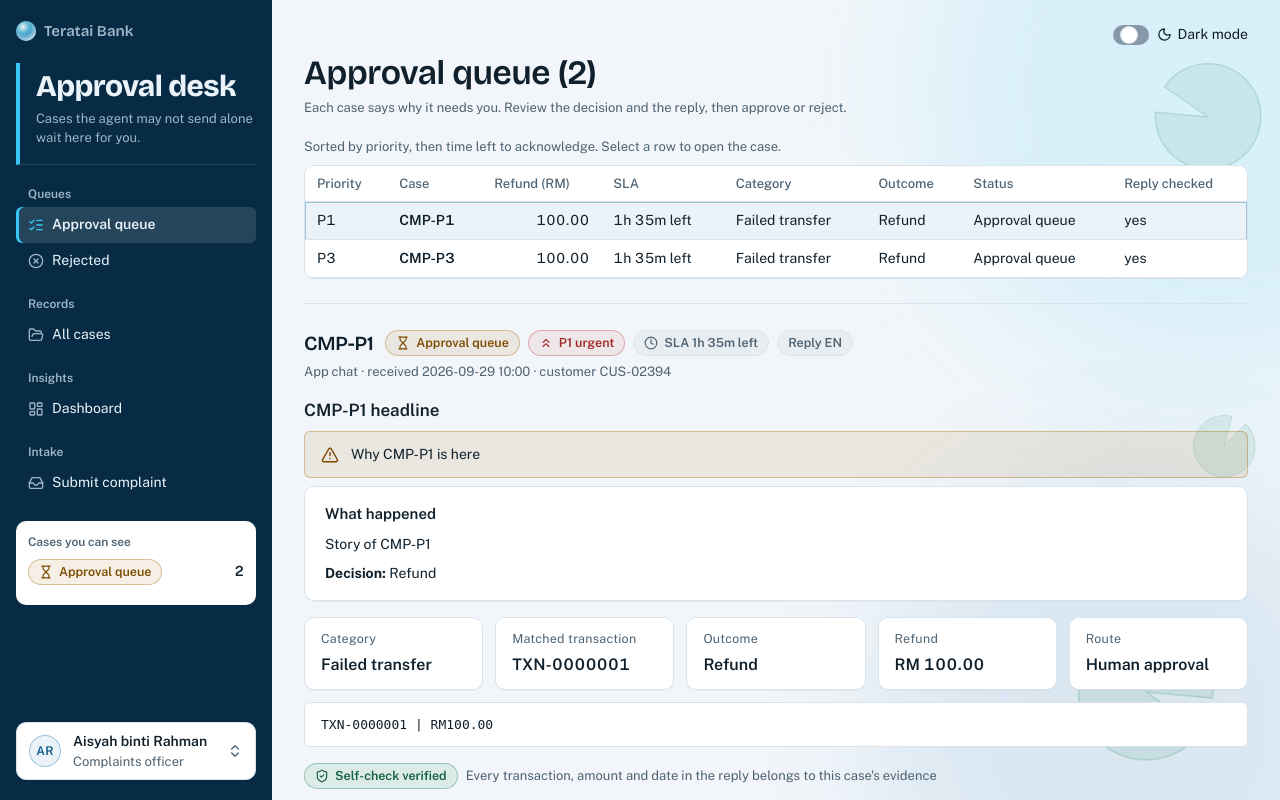
Test: theme › opens light, switches to dark, and keeps dark after logging out
Expected: the heading "Approval queue (2)" is shown, [304,52,596,93]
Click the switch named "Dark mode".
click(1130, 34)  # box [1112,24,1148,44]
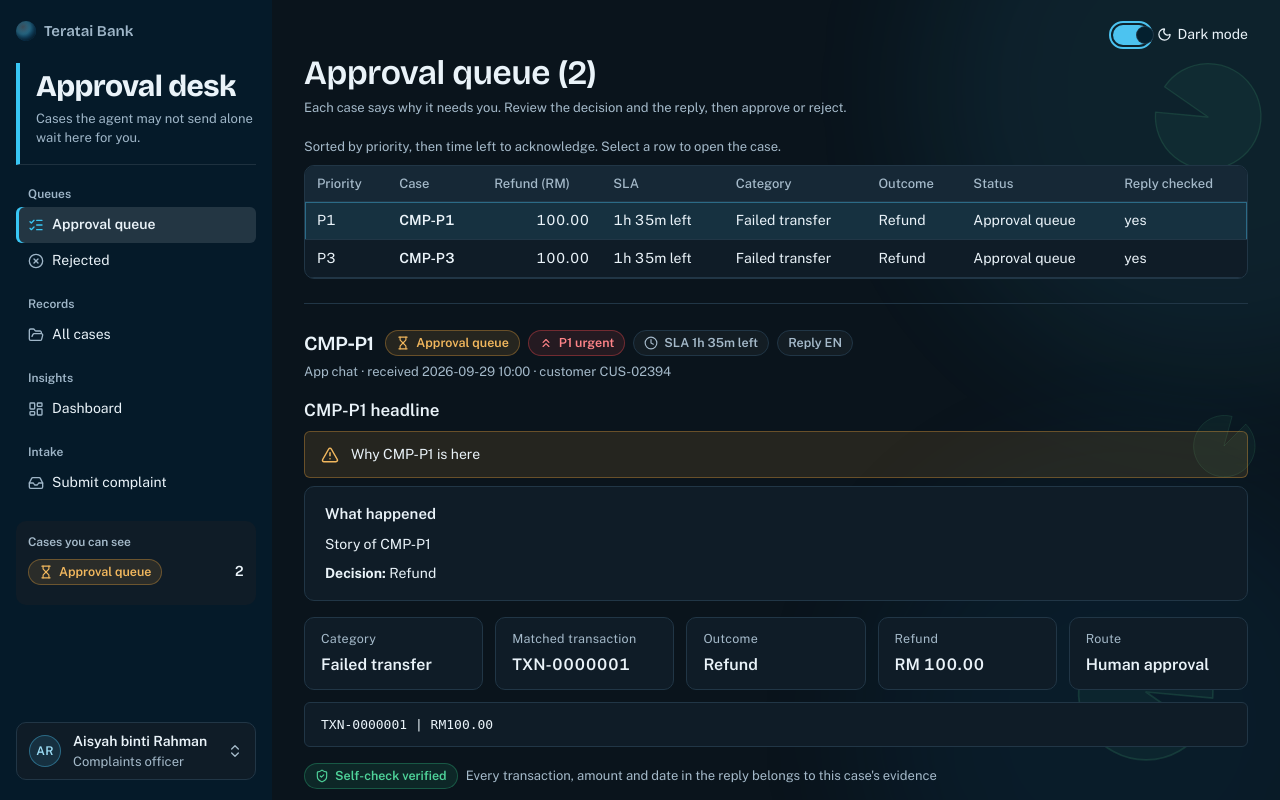
Click the button with aria-label "account menu".
click(136, 751)  # box [16,722,256,780]
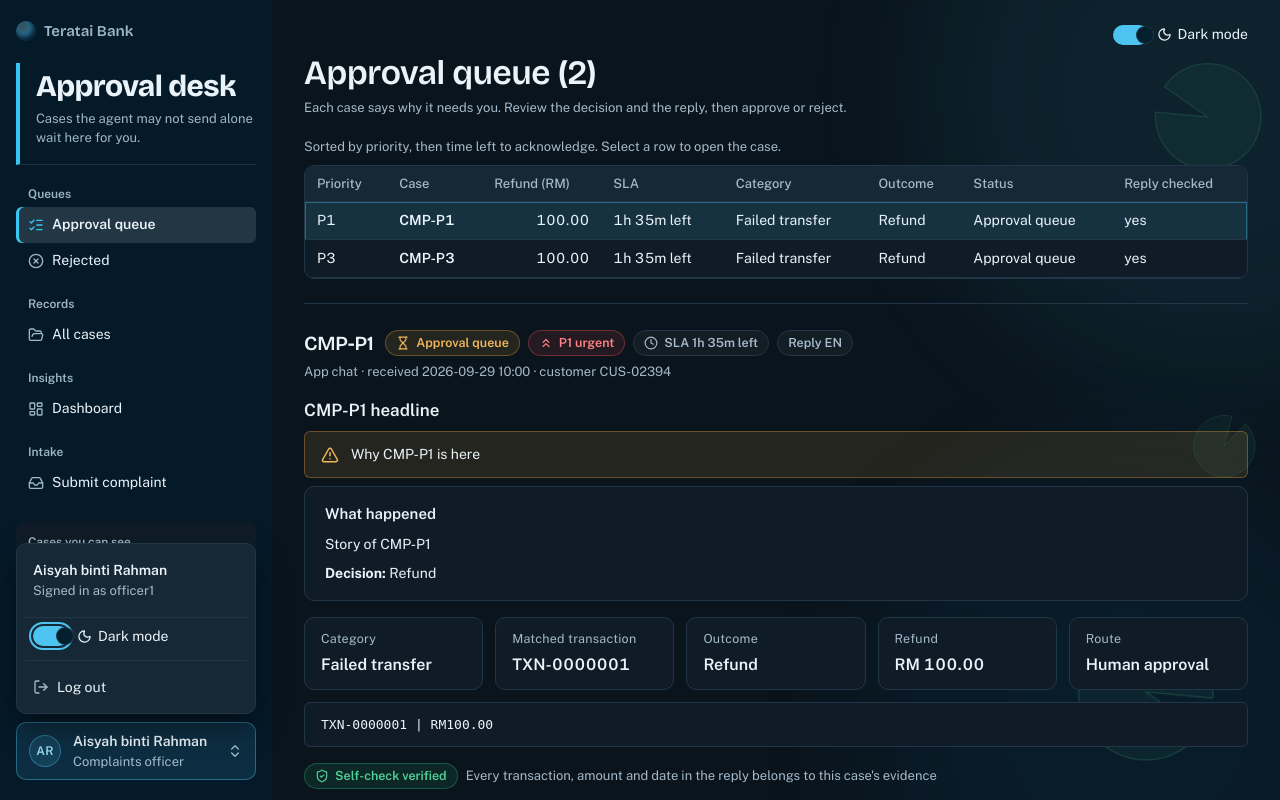
Click the button "Log out".
click(136, 687)  # box [25,669,247,705]
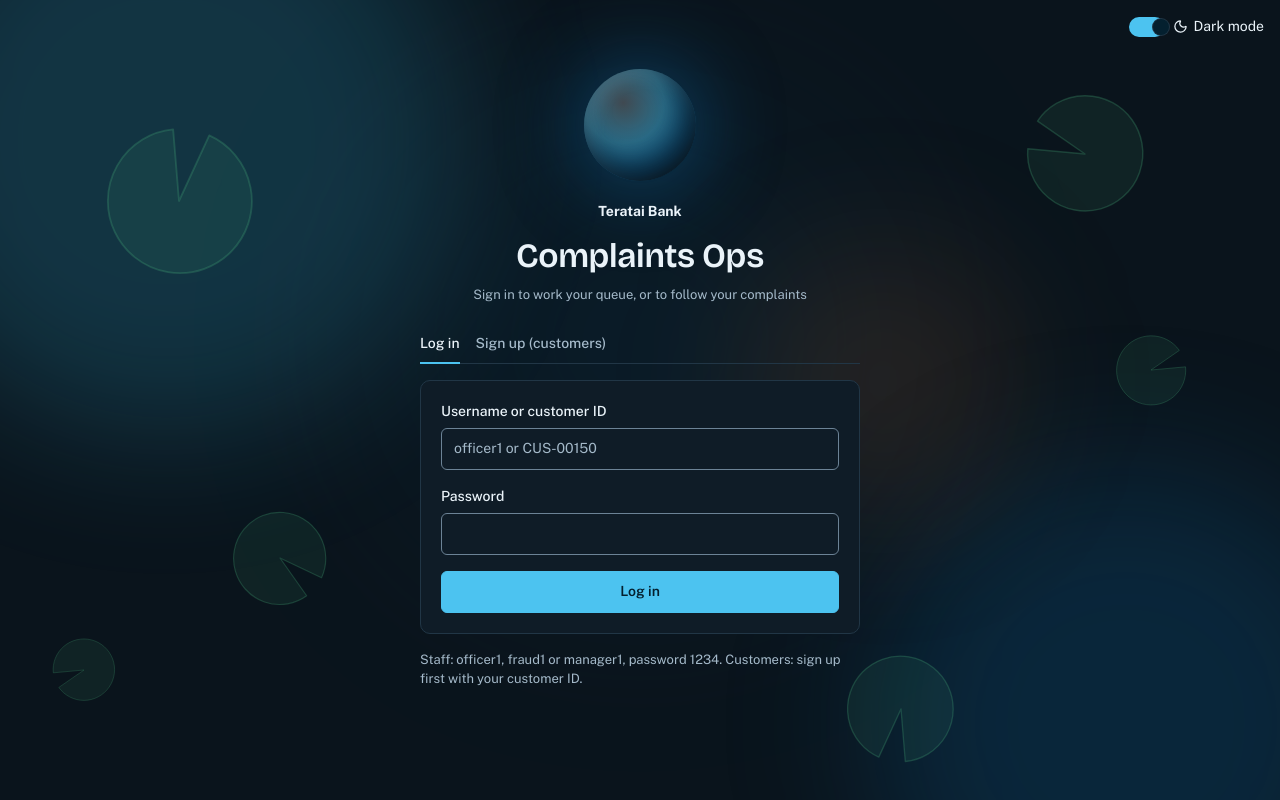
Now the heading "Complaints Ops" is shown, box [516,234,888,276]
Now the switch named "Dark mode" is checked, box [1128,16,1164,36]
